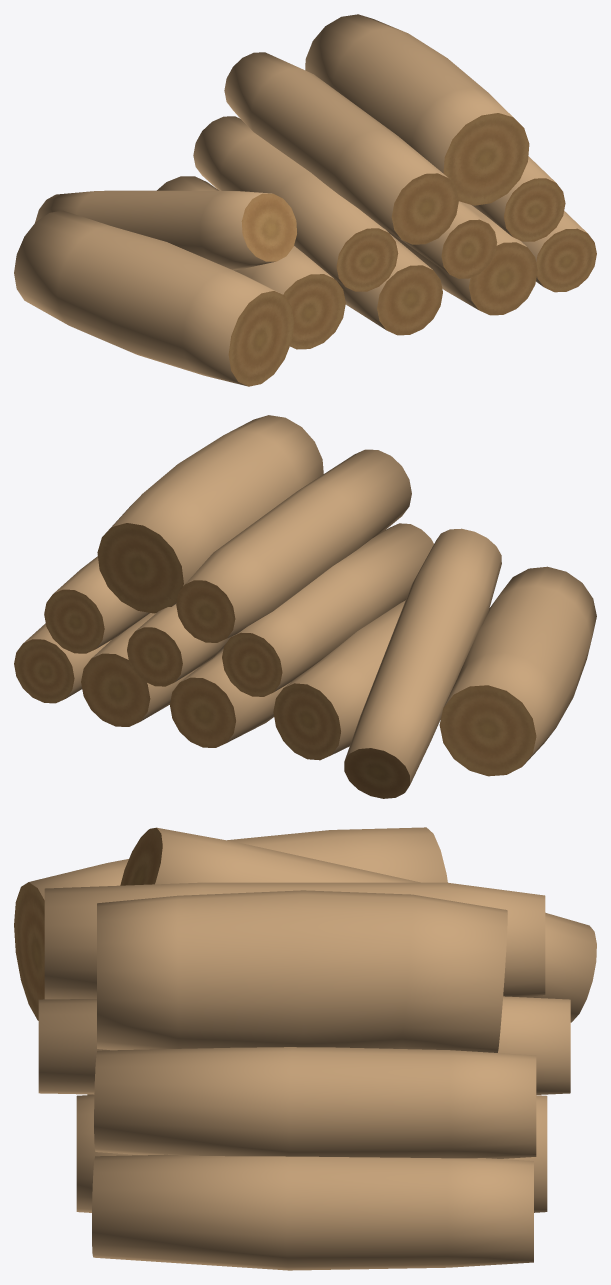
Rendered from Timber_Stack_2.fbx.
3 views of the same model, one above another, from view 1: azimuth 30°, elevation 25°; view 2: azimuth 150°, elevation 25°; view 3: azimuth 270°, elevation 25° (orthographic). The views are drawn at different scales.
Visible parts, largest first — view 1: Cylinder.018, Cylinder.014, Cylinder.015, Cylinder.013, Cylinder.017, Cylinder.009, Cylinder.011, Cylinder.007, Cylinder.010, Cylinder.008, Cylinder.012; view 2: Cylinder.014, Cylinder.018, Cylinder.017, Cylinder.015, Cylinder.013, Cylinder.009, Cylinder.011, Cylinder.010, Cylinder.007, Cylinder.012, Cylinder.008; view 3: Cylinder.014, Cylinder.008, Cylinder.010, Cylinder.015, Cylinder.017, Cylinder.018, Cylinder.012, Cylinder.007.
Boxes of the visible parts, box(x1,y1,x2,y2) form: Cylinder.018: box(14, 210, 294, 386); Cylinder.014: box(305, 14, 529, 205); Cylinder.015: box(224, 52, 458, 244); Cylinder.013: box(193, 116, 398, 291); Cylinder.017: box(35, 190, 296, 270); Cylinder.009: box(157, 176, 345, 349); Cylinder.011: box(337, 234, 442, 335); Cylinder.007: box(386, 202, 537, 315); Cylinder.010: box(472, 156, 565, 241); Cylinder.008: box(521, 211, 596, 292); Cylinder.012: box(397, 201, 497, 278); Cylinder.014: box(97, 415, 323, 613); Cylinder.018: box(439, 566, 596, 776); Cylinder.017: box(344, 528, 501, 798); Cylinder.015: box(176, 449, 411, 642); Cylinder.013: box(222, 523, 433, 696); Cylinder.009: box(273, 600, 405, 760); Cylinder.011: box(170, 649, 290, 747); Cylinder.010: box(44, 556, 149, 653); Cylinder.007: box(81, 613, 199, 726); Cylinder.012: box(127, 604, 230, 686); Cylinder.008: box(14, 623, 111, 703); Cylinder.014: box(97, 890, 507, 1052); Cylinder.008: box(92, 1154, 533, 1270); Cylinder.010: box(94, 1047, 536, 1158); Cylinder.015: box(44, 882, 545, 999); Cylinder.017: box(120, 827, 596, 1022); Cylinder.018: box(14, 827, 447, 1020); Cylinder.012: box(38, 996, 570, 1094); Cylinder.007: box(76, 1094, 547, 1212).
Size of the model in its own units: 135 by 56.83 by 96.64.
